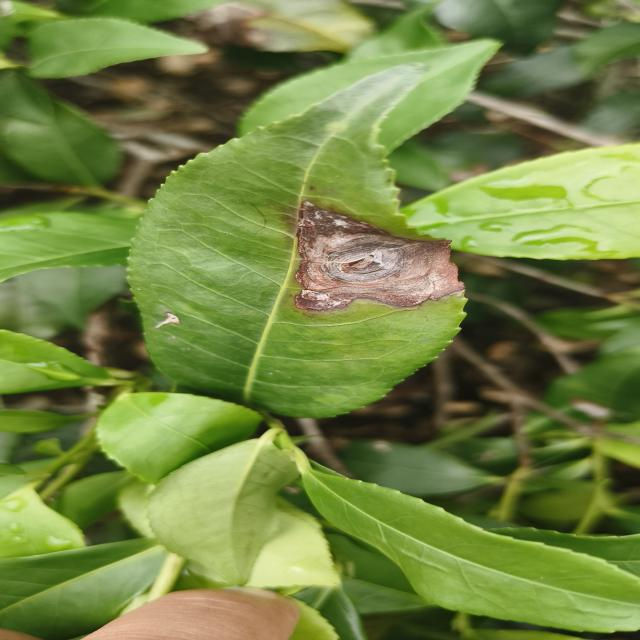Leaf: (130, 63, 463, 418), (297, 452, 640, 633), (238, 39, 498, 154), (403, 144, 640, 260), (148, 431, 297, 585), (0, 538, 168, 640), (97, 392, 262, 484), (0, 70, 121, 186), (28, 18, 206, 78), (0, 212, 138, 282), (339, 439, 498, 497), (0, 330, 117, 394), (542, 347, 640, 423), (435, 0, 562, 54), (527, 411, 566, 432)
